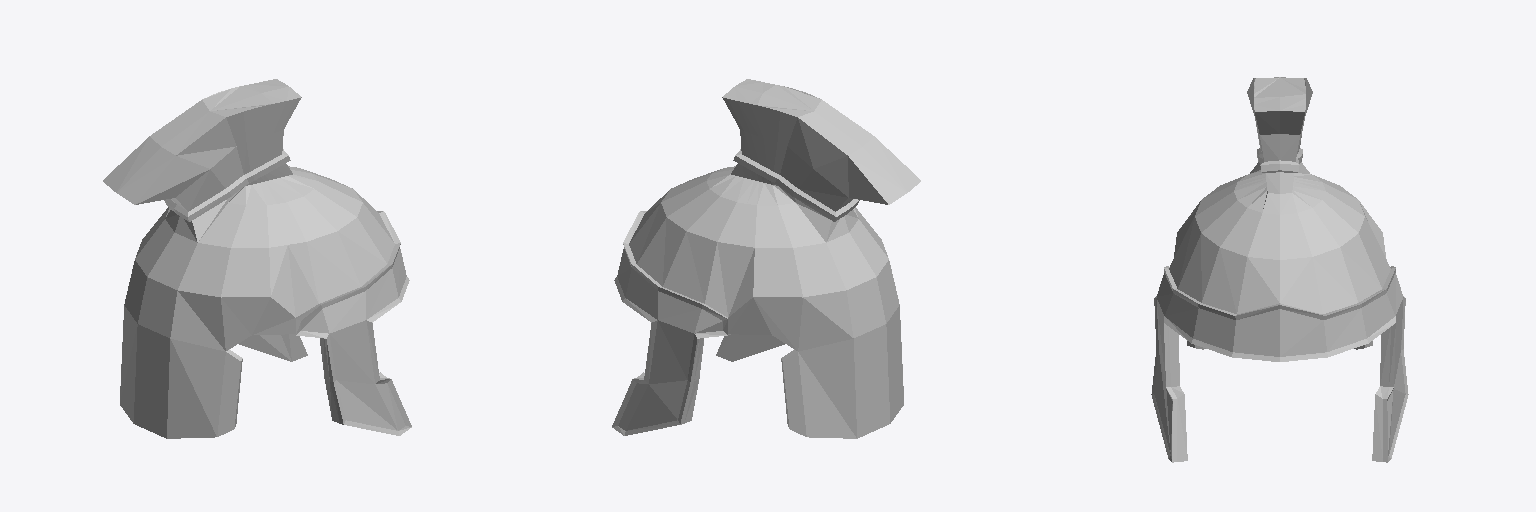
Rendered from roman_helmet.obj.
The picture shows the model from 3 angles: view 1: azimuth 30°, elevation 25°; view 2: azimuth 150°, elevation 25°; view 3: azimuth 270°, elevation 25°; orthographic projection.
Visible parts, largest first — view 1: sphere2; view 2: sphere2; view 3: sphere2.
Boxes of the visible parts, x1,y1,x2,y2 form: sphere2: [103, 79, 411, 438]; sphere2: [612, 79, 920, 438]; sphere2: [1151, 77, 1408, 462].
Bounding box in the file's own units: 2.51 × 2.77 × 2.